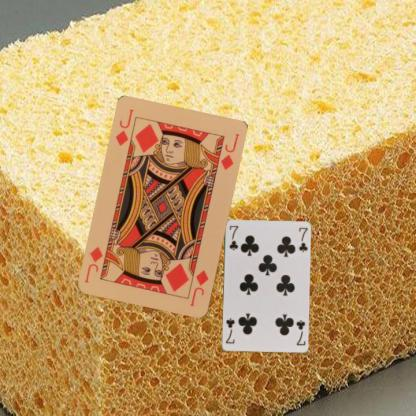7c: (294, 317, 306, 346), (227, 223, 239, 251)
Jd: (188, 267, 210, 308), (113, 107, 135, 148)
